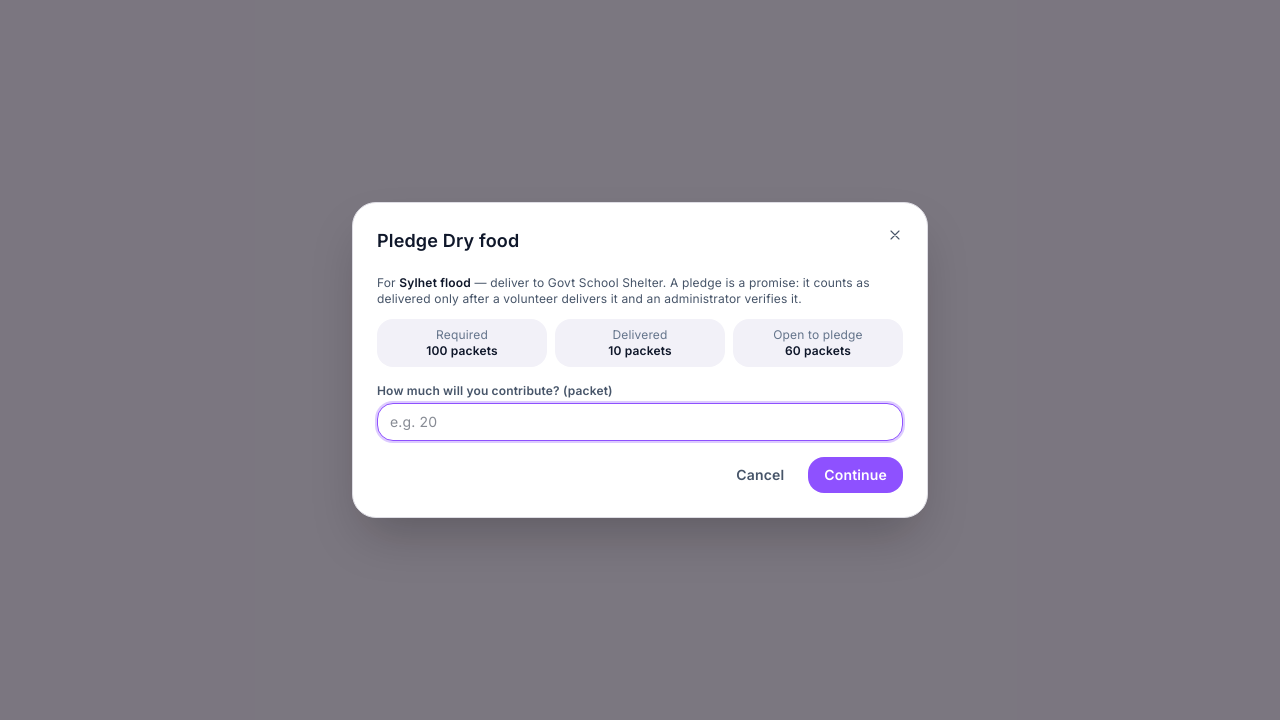
PledgeDialog — quantity step › rejects "-5" without leaving the step
Type "-5" into the field labelled "How much will you contribute? (packet)" at [640, 422], box [377,403,903,441]
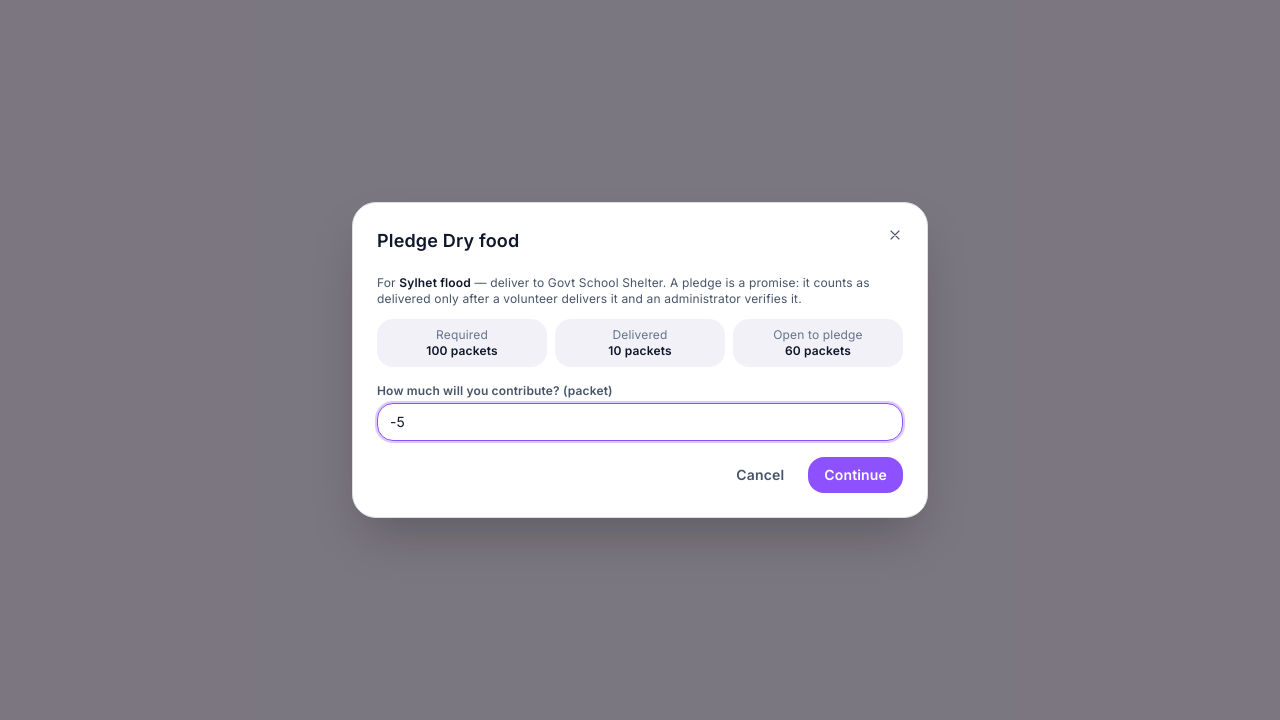
Click the button "Continue" at [856, 475], box [808,457,903,493]
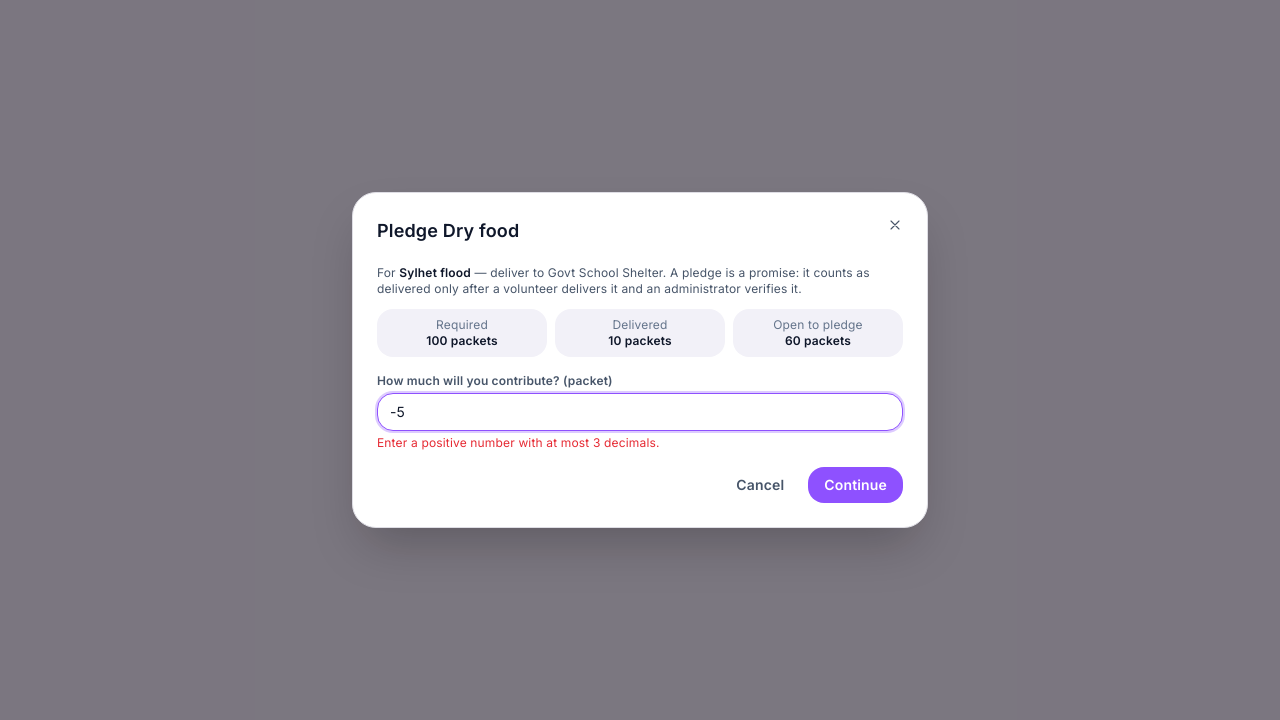
Check: the message shows "positive number", box [377,435,660,450]
